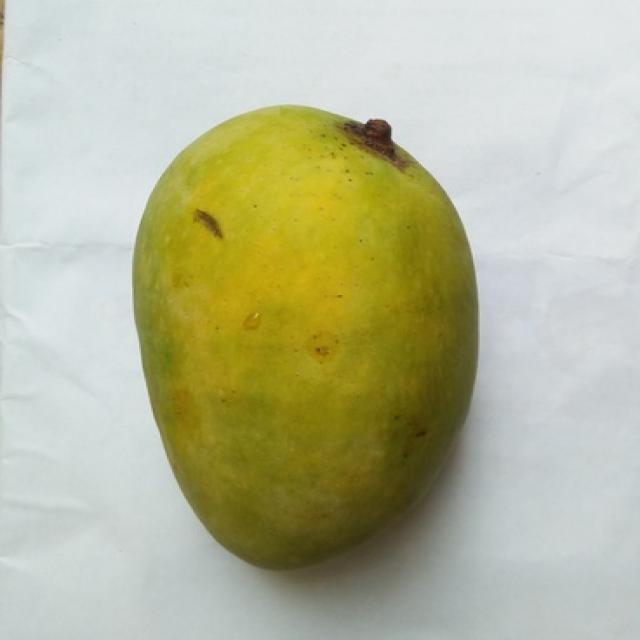Mango: (134, 107, 477, 567)
